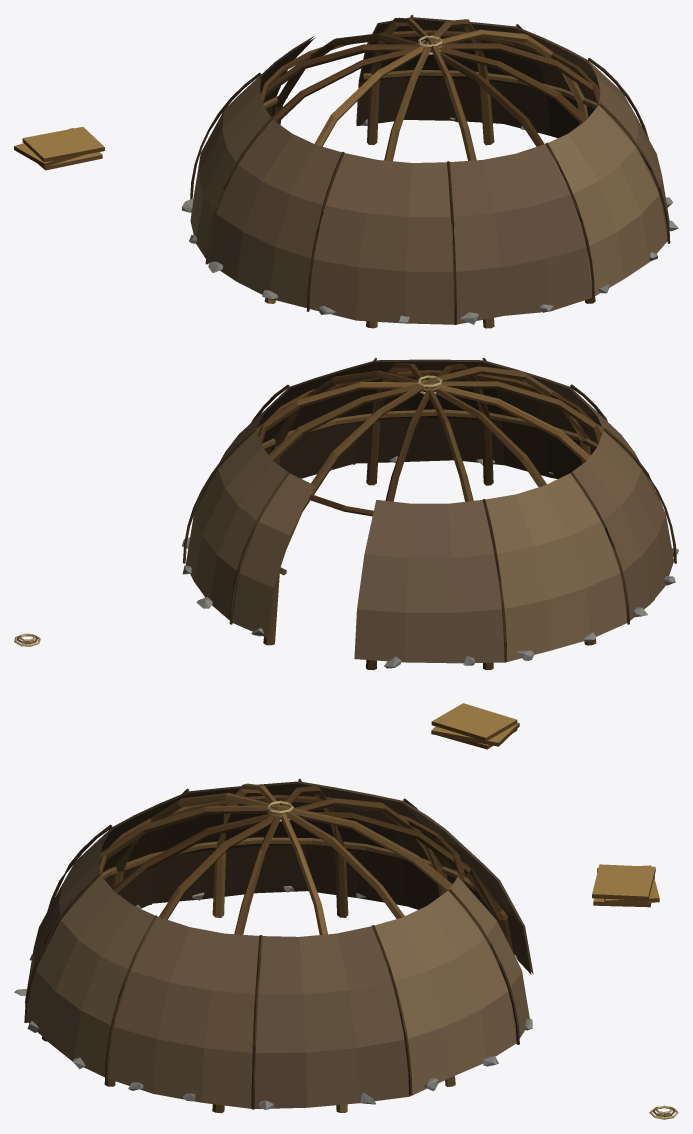
Rendered from toolmaker_hut_2_copertura.glb.
3 renders of one model, top to bottom at view 1: azimuth 30°, elevation 25°; view 2: azimuth 150°, elevation 25°; view 3: azimuth 270°, elevation 25°, orthographic. The views are drawn at different scales.
Parts seen in each view (by area): view 1: toolmaker_hut_2_copertura; view 2: toolmaker_hut_2_copertura; view 3: toolmaker_hut_2_copertura.
Part boxes in pixels (x1,y1,x2,y2): toolmaker_hut_2_copertura: (14,15,678,328); toolmaker_hut_2_copertura: (14,357,678,749); toolmaker_hut_2_copertura: (14,778,678,1119).
Bounding box in the file's own units: 7.76 × 3.06 × 8.84.
